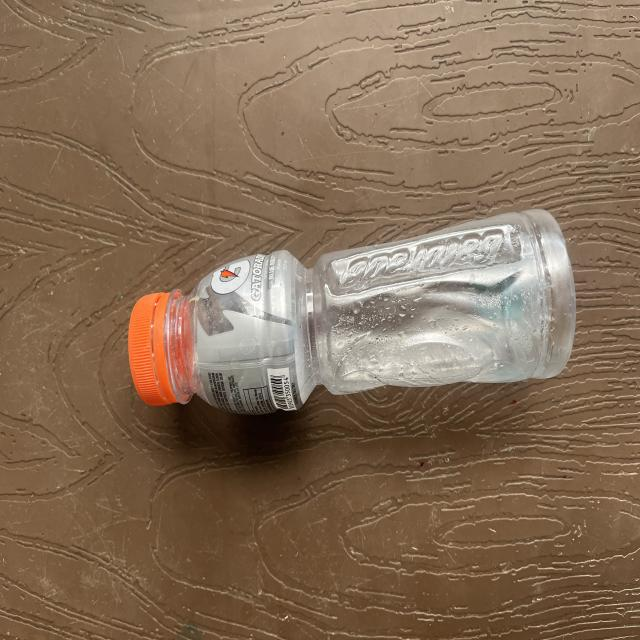REJECT: (109, 209, 576, 430)
